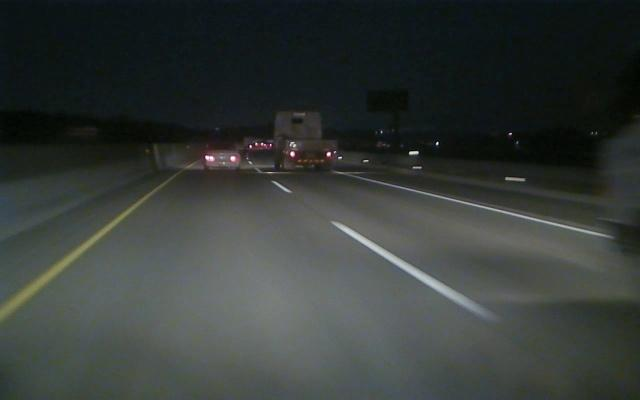lane: (275, 182, 519, 329), (2, 196, 147, 322), (352, 175, 613, 241)
